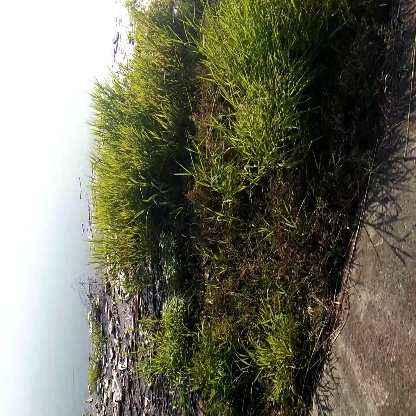grass: (88, 152, 154, 264)
